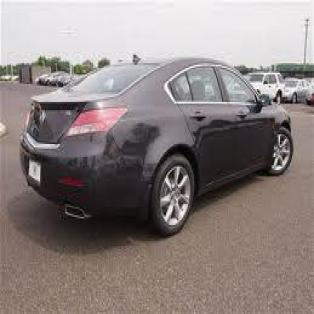Auto: (11, 37, 307, 254)
